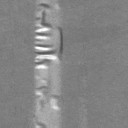slag inclusion: (30, 2, 66, 128)
